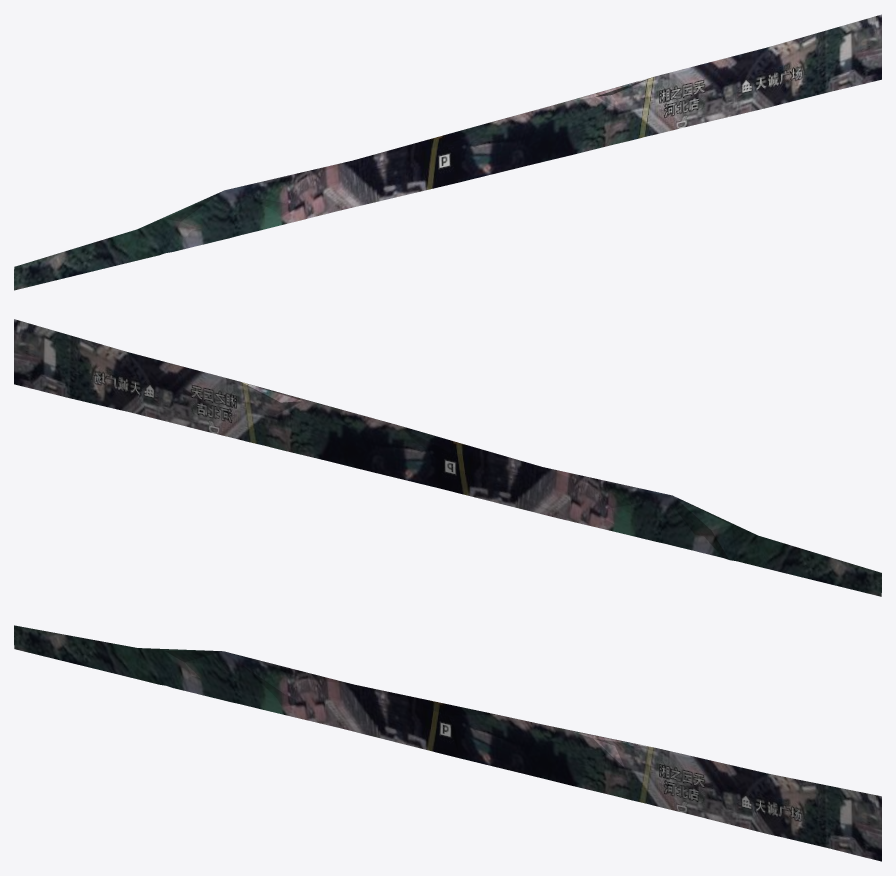
3 views of the same model, one above another, from view 1: azimuth 30°, elevation 25°; view 2: azimuth 150°, elevation 25°; view 3: azimuth 330°, elevation 25° (orthographic).
Parts seen in each view (by area): view 1: 0_1_2_0_0_2; view 2: 0_1_2_0_0_2; view 3: 0_1_2_0_0_2.
Part boxes in pixels (bbox=[...]): 0_1_2_0_0_2: bbox=[14, 14, 881, 290]; 0_1_2_0_0_2: bbox=[14, 319, 881, 596]; 0_1_2_0_0_2: bbox=[14, 625, 881, 861].
Bounding box in the file's own units: 486 × 34.94 × 2.89.
Materials: 1 (1 with a texture image).
